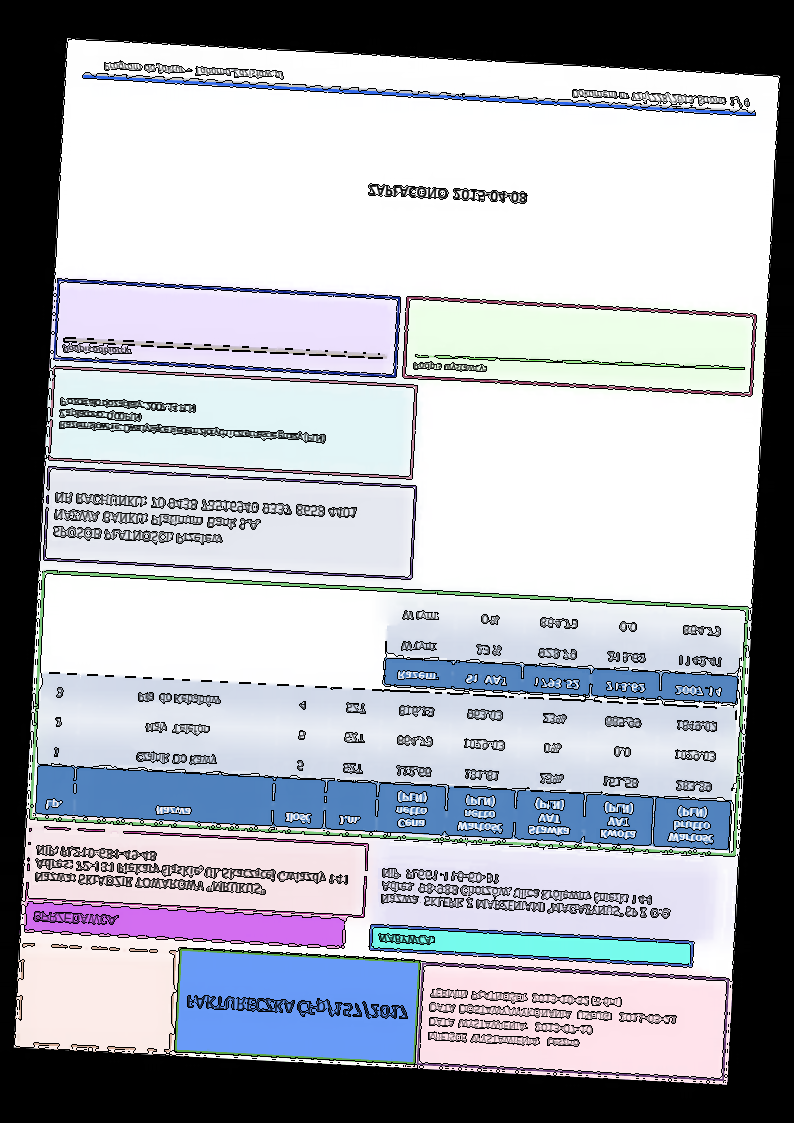Table: (32, 674, 735, 853), (380, 595, 744, 707)
TextBox: (47, 487, 361, 559), (31, 839, 351, 905), (421, 982, 682, 1058), (376, 863, 677, 925), (56, 394, 332, 448), (178, 988, 411, 1029), (97, 54, 286, 88), (360, 179, 531, 211), (569, 84, 756, 111), (27, 909, 121, 930), (59, 338, 135, 362), (405, 357, 489, 378), (375, 929, 435, 950)
